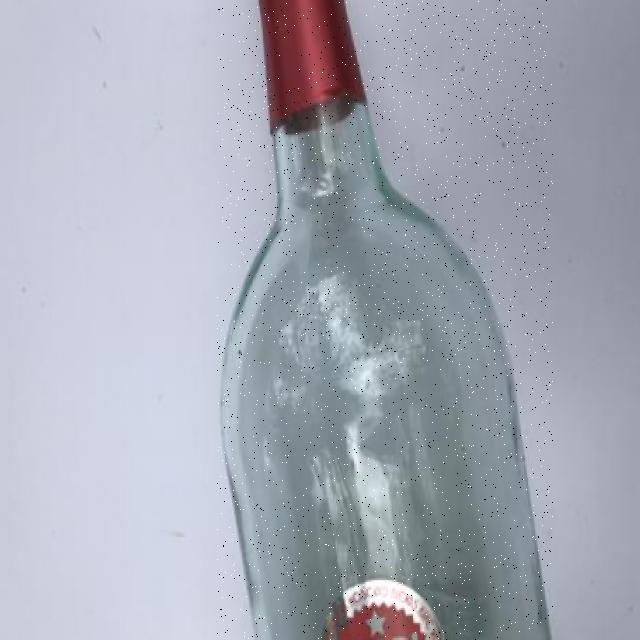glass: (217, 0, 553, 640)
